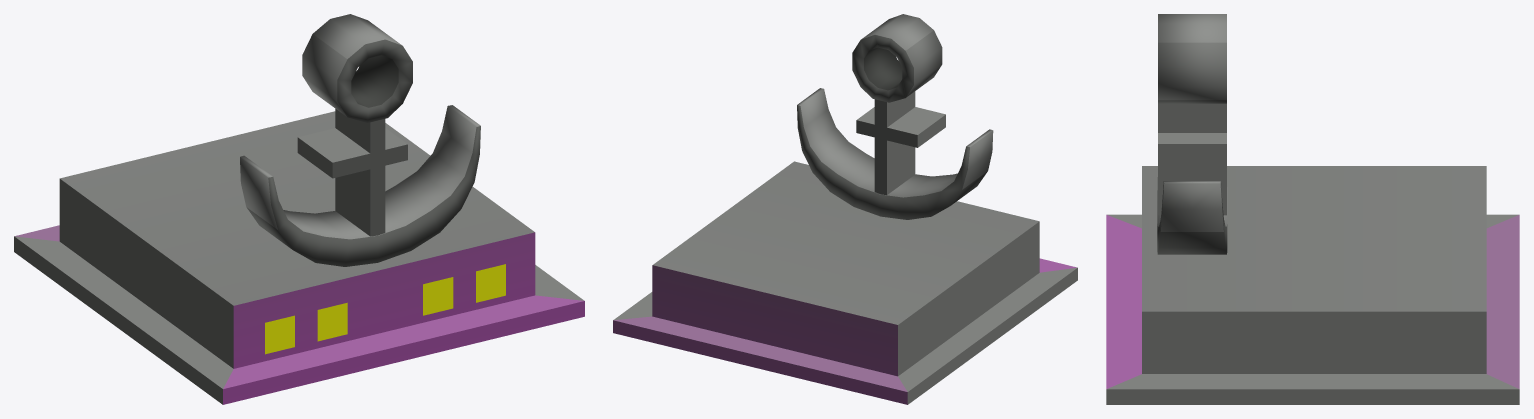
Rendered from Port.GreySky.glb.
3 renders of one model, left to right at view 1: azimuth 30°, elevation 25°; view 2: azimuth 150°, elevation 25°; view 3: azimuth 270°, elevation 25°, orthographic. The views are drawn at different scales.
Visible parts, largest first — view 1: Port.GreySky; view 2: Port.GreySky; view 3: Port.GreySky.
Part boxes in pixels (x1,y1,x2,y2): Port.GreySky: (14, 14, 584, 404); Port.GreySky: (613, 14, 1077, 404); Port.GreySky: (1106, 14, 1519, 404).
Bounding box in the file's own units: 2.4 × 1.9 × 2.4.
2 materials, 1 textured.
